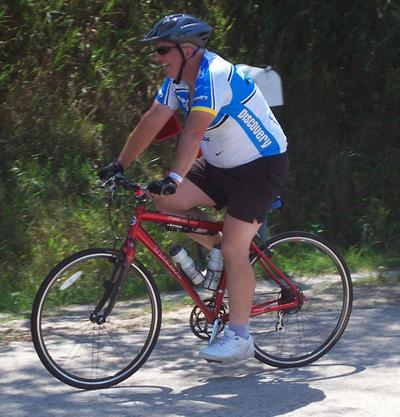person: (98, 12, 293, 365)
